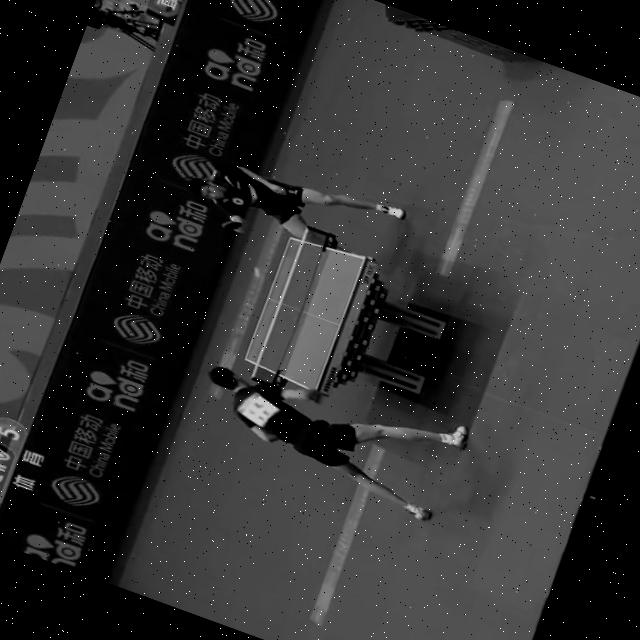ping-pong-ball: (249, 262, 266, 278)
